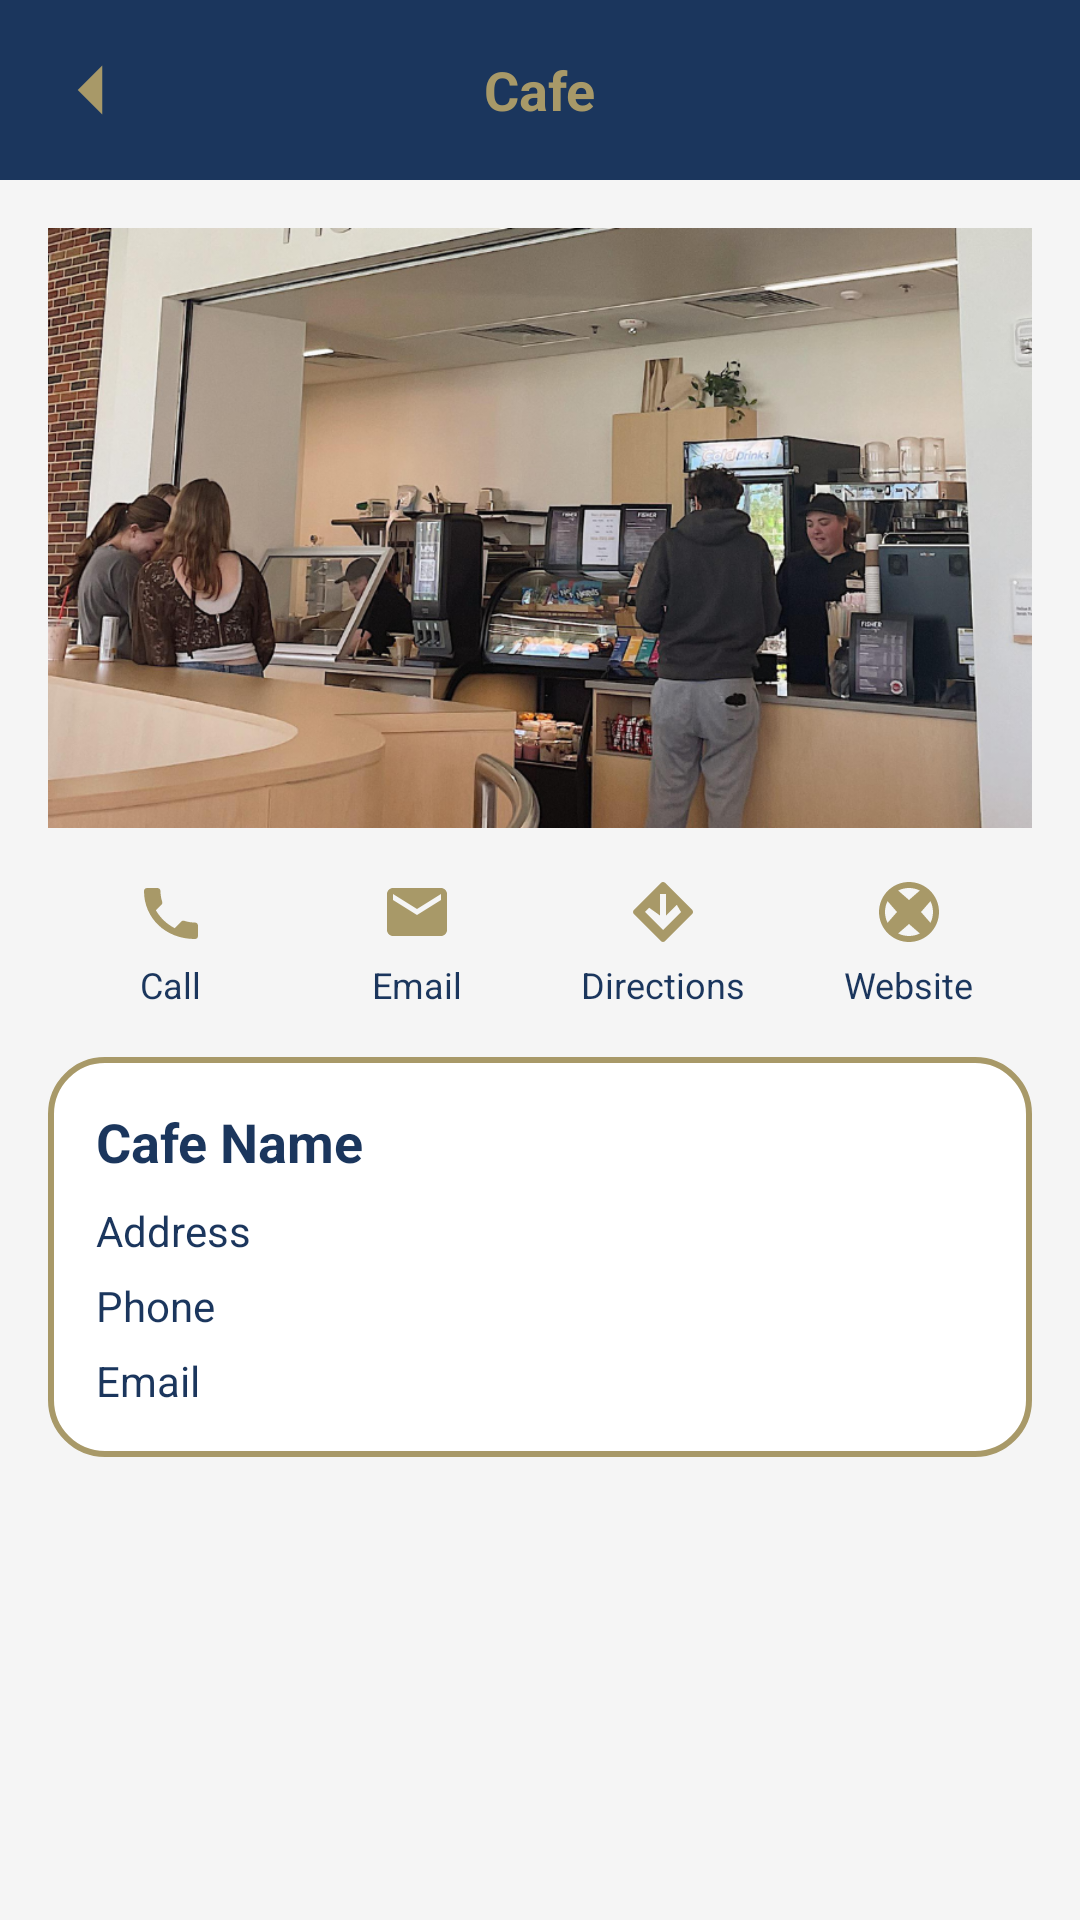

Locate icon controls on the screen. Image size 1080px×1920px, boxes as (x1=x1, y1=y1, x2=x2, y2=y2).
back: (x1=78, y1=66, x2=103, y2=114)
